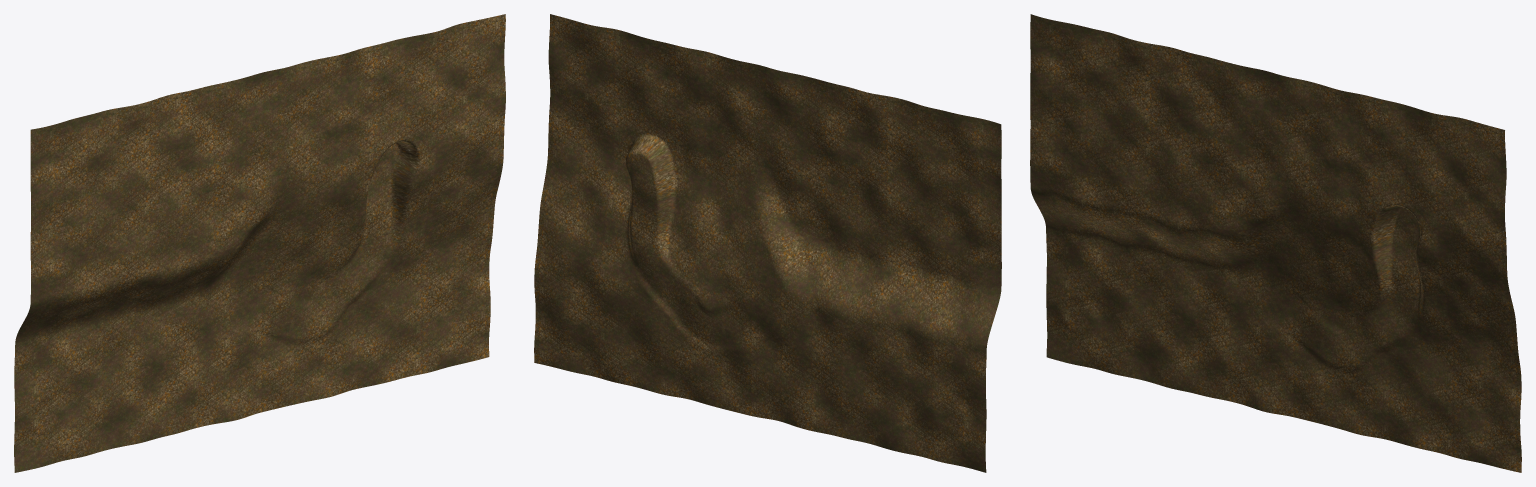
The model's file is terrain.obj.
The picture shows the model from 3 angles, left to right: view 1: azimuth 30°, elevation 25°; view 2: azimuth 150°, elevation 25°; view 3: azimuth 330°, elevation 25°; orthographic projection. The views are drawn at different scales.
Visible parts, largest first — view 1: terrain; view 2: terrain; view 3: terrain.
Part boxes in pixels (x1,y1,x2,y2): terrain: (14,14,505,472); terrain: (534,14,1001,472); terrain: (1030,14,1521,472).
Size of the model in its own units: 70 by 50 by 4.59.
Materials: 1 (1 with a texture image).
